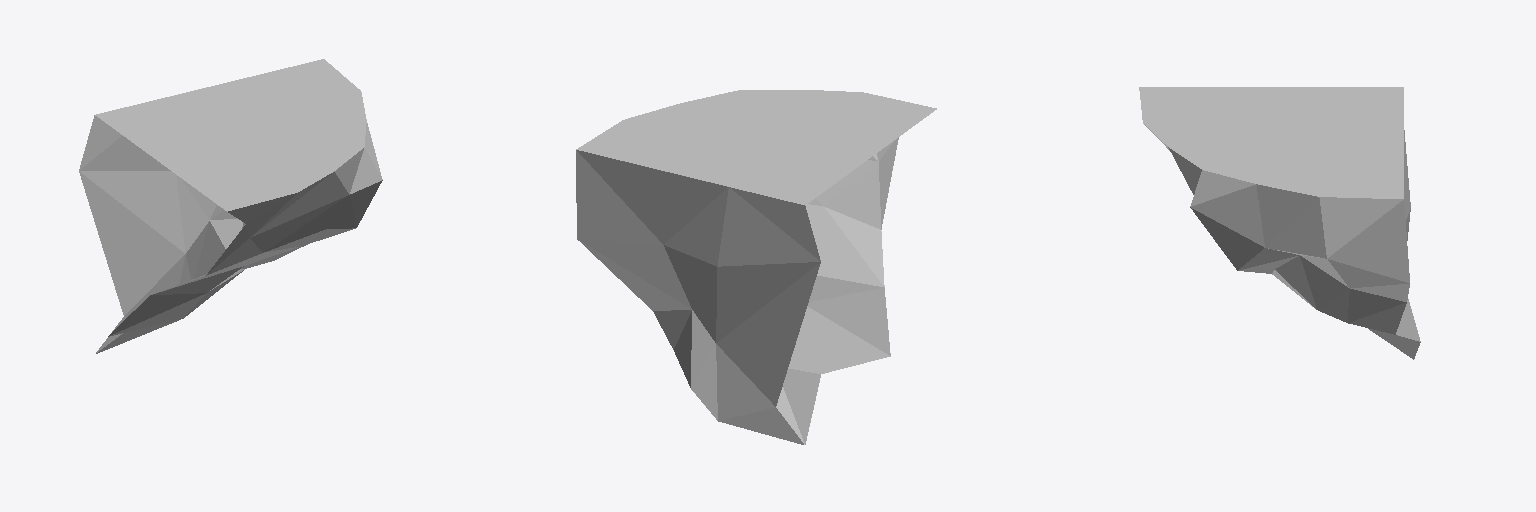
File: RockPlatform5.obj
3 views of the same model, side by side, from view 1: azimuth 30°, elevation 25°; view 2: azimuth 150°, elevation 25°; view 3: azimuth 270°, elevation 25° (orthographic).
Parts seen in each view (by area): view 1: Cube.001; view 2: Cube.001; view 3: Cube.001.
Boxes of the visible parts, x1,y1,x2,y2 form: Cube.001: [79, 59, 382, 353]; Cube.001: [576, 90, 936, 444]; Cube.001: [1139, 87, 1420, 359].
Size of the model in its own units: 2.37 by 2 by 2.13.